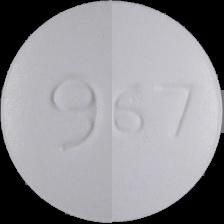66116-446: (0, 0, 224, 224)
